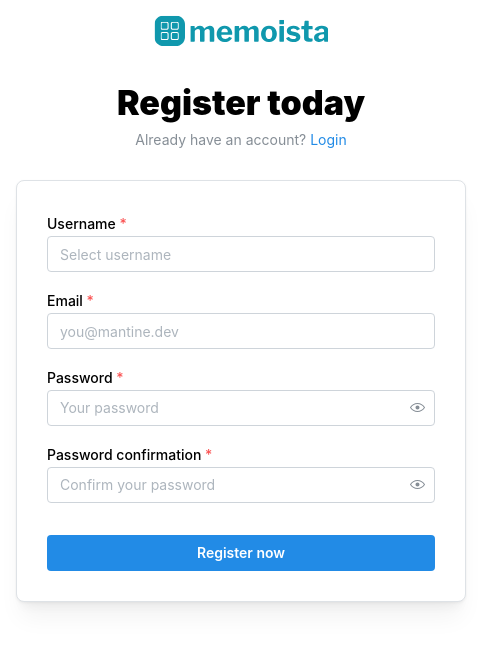
Test: RegisterForm › should display validation errors on password field
In the password field labelled "Password *": (241, 408) [48,391,434,425], type "test"
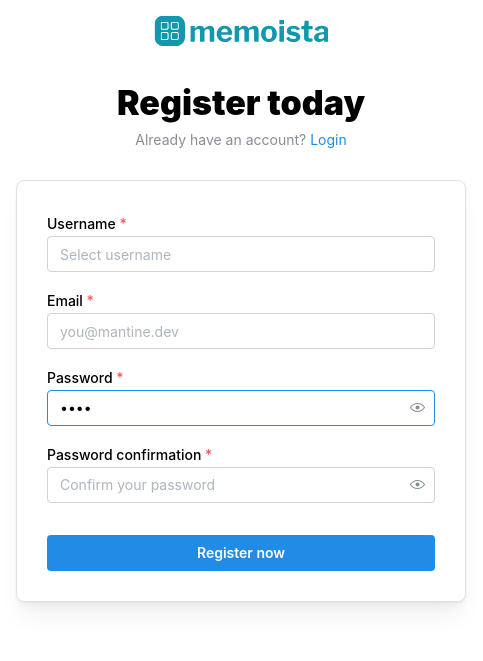
Press Tab
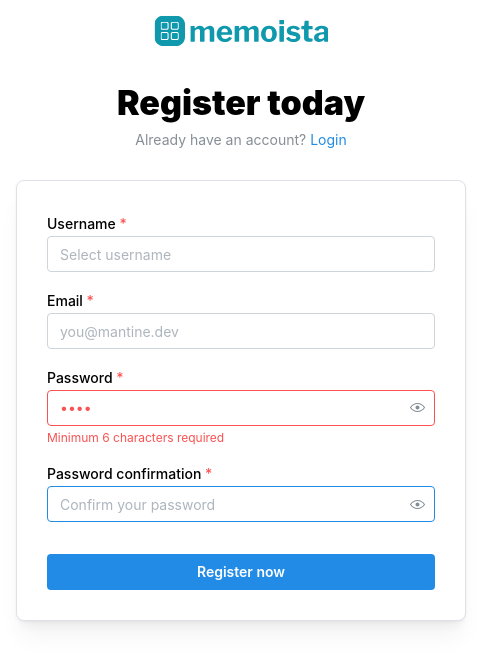
Now the text "Minimum 6 characters required" is shown, box [47,430,224,445]
Clear the password field labelled "Password *": (241, 408) [48,391,434,425]
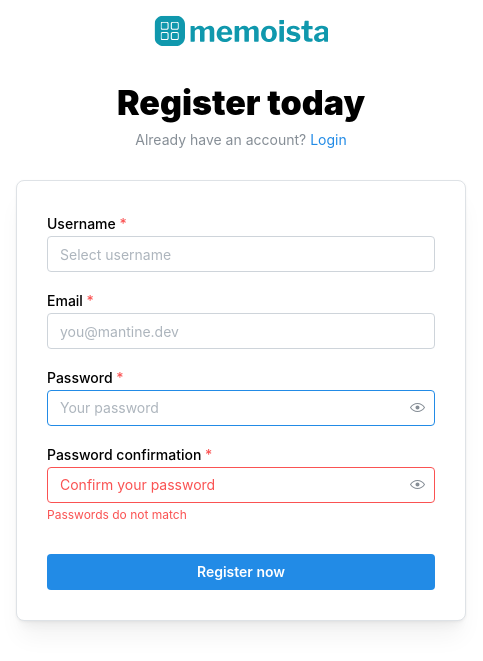
Press Tab
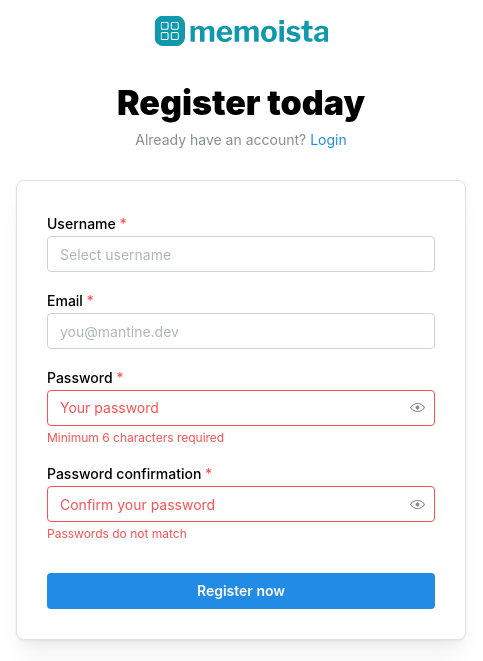
Now the text "Minimum 6 characters required" is shown, box [47,430,224,445]
